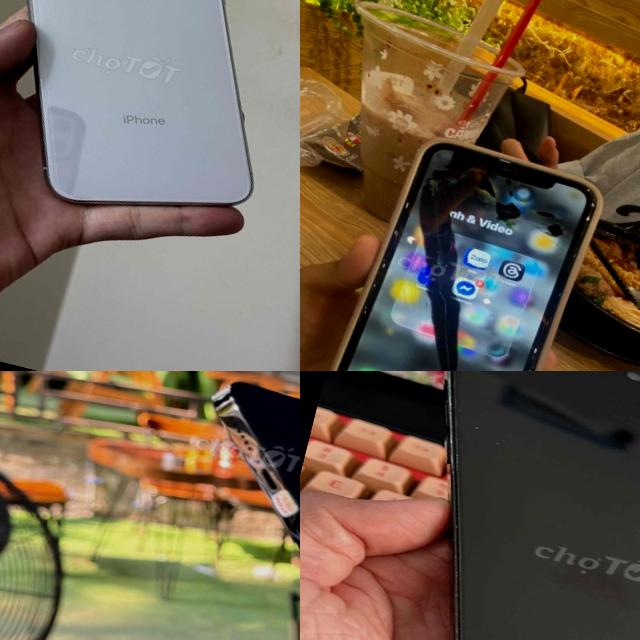gen_11: (334, 138, 600, 371)
gen_14: (332, 371, 640, 640), (168, 371, 300, 640)
gen_x_xs: (27, 0, 251, 205)
physical_damage: (322, 129, 574, 371)
scratch: (408, 371, 505, 520), (628, 431, 640, 448)
screen_defect: (337, 135, 584, 371)
